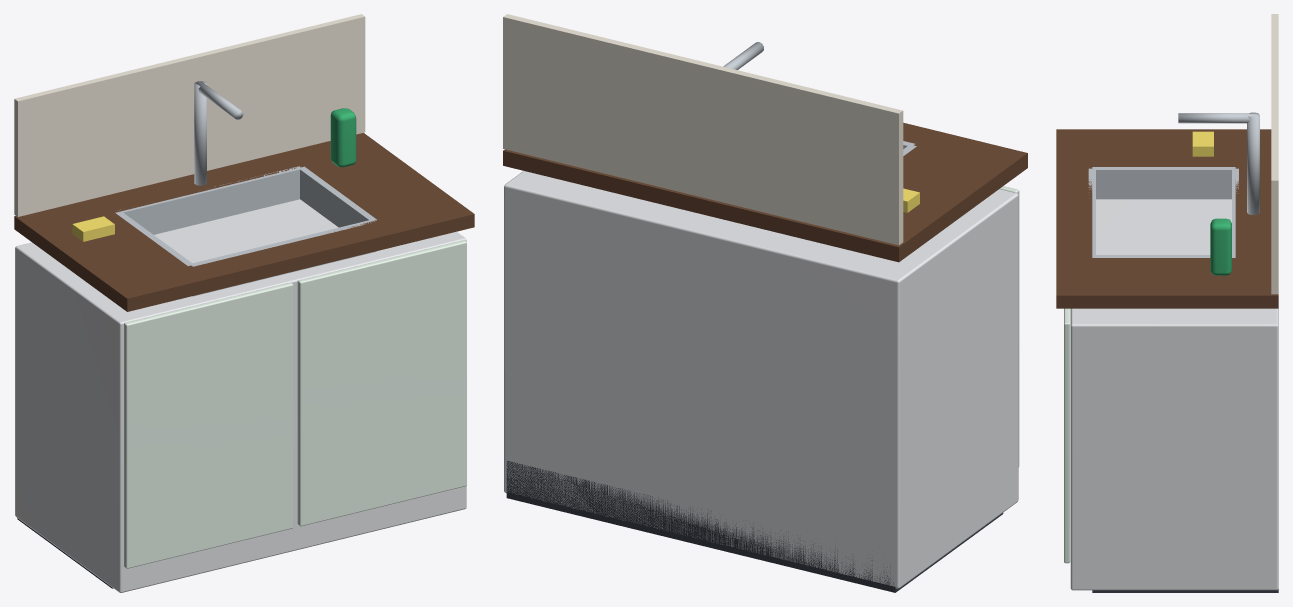
Rendered from SinkModule.fbx.
The picture shows the model from 3 angles, left to right: view 1: azimuth 30°, elevation 25°; view 2: azimuth 150°, elevation 25°; view 3: azimuth 270°, elevation 25°; orthographic projection. The views are drawn at different scales.
Parts seen in each view (by area): view 1: SinkModuleBody, Door, Door__swap.001; view 2: SinkModuleBody; view 3: SinkModuleBody, Door__swap.001.
Boxes of the visible parts, box(x1,y1,x2,y2) form: SinkModuleBody: box(14, 14, 474, 592); Door: box(124, 282, 293, 568); Door__swap.001: box(297, 240, 466, 526); SinkModuleBody: box(503, 14, 1027, 592); SinkModuleBody: box(1056, 14, 1278, 592); Door__swap.001: box(1064, 308, 1070, 563).
Bounding box in the file's own units: 1.1 × 1.28 × 0.62.
